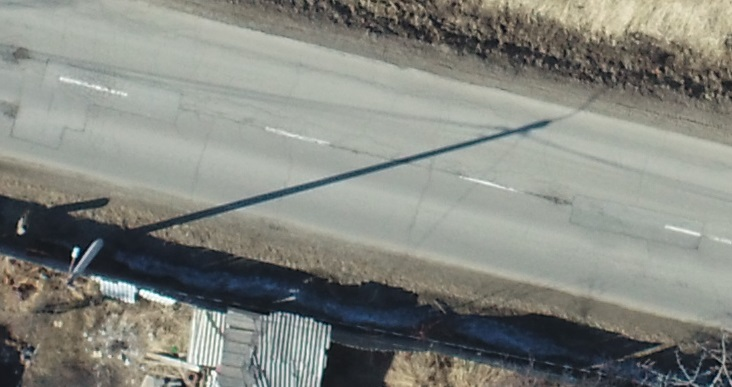opora: (65, 216, 158, 286)
